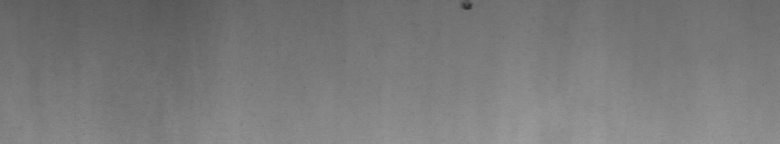fi: (460, 4, 476, 16)
